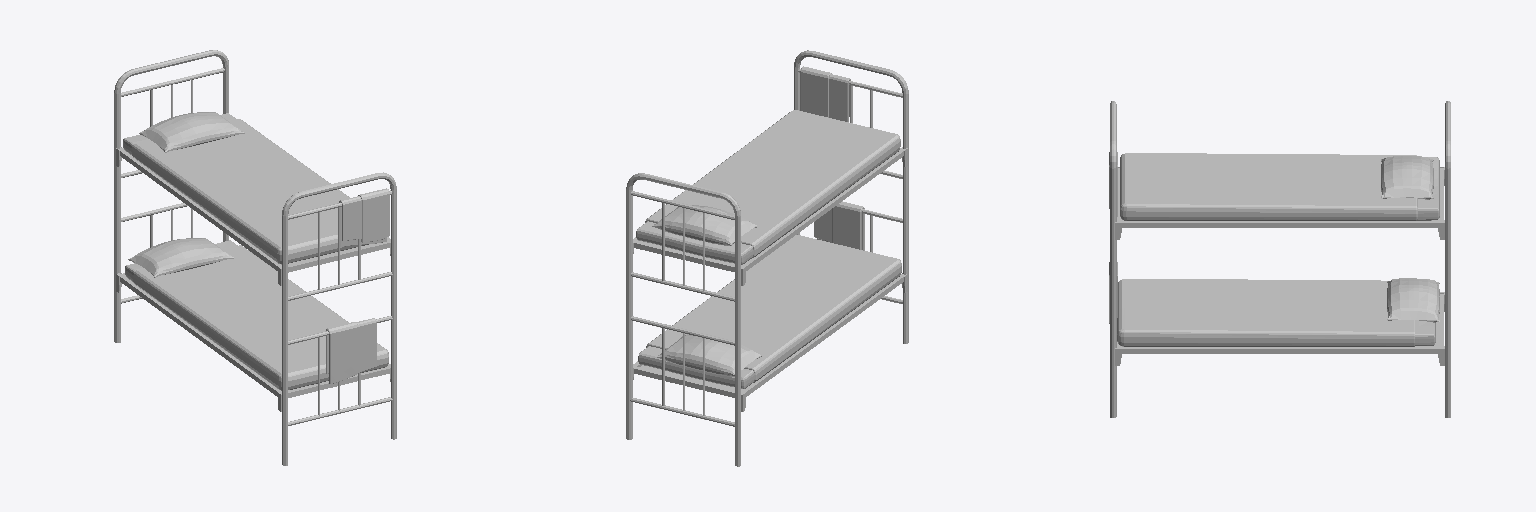
File: Bunk_Bed.obj
The picture shows the model from 3 angles: view 1: azimuth 30°, elevation 25°; view 2: azimuth 150°, elevation 25°; view 3: azimuth 270°, elevation 25°; orthographic projection.
Parts seen in each view (by area): view 1: Planket002, Planket001, Railing002, Railing001, Towel001, Towel002, Pillow002, Pillow001, Bedframes002, Bedframe001; view 2: Planket001, Planket002, Railing001, Railing002, Bedframe001, Bedframes002, Pillow001, Towel002, Pillow002, Towel001, Mattress002, Mattress001; view 3: Planket001, Planket002, Bedframes002, Bedframe001, Pillow001, Pillow002, Railing002, Railing001, Mattress002.
Boxes of the visible parts, <box> form: Planket002: <box>132,119,368,264</box>; Planket001: <box>133,245,388,390</box>; Railing002: <box>282,172,396,465</box>; Railing001: <box>114,50,228,342</box>; Towel001: <box>326,318,376,383</box>; Towel002: <box>339,188,389,246</box>; Pillow002: <box>139,112,244,152</box>; Pillow001: <box>128,238,233,277</box>; Bedframes002: <box>116,147,390,285</box>; Bedframe001: <box>116,273,390,411</box>; Planket001: <box>646,235,901,382</box>; Planket002: <box>645,110,900,257</box>; Railing001: <box>626,173,740,466</box>; Railing002: <box>794,50,908,343</box>; Bedframe001: <box>633,273,907,411</box>; Bedframes002: <box>633,147,907,285</box>; Pillow001: <box>657,334,761,376</box>; Towel002: <box>800,66,850,121</box>; Pillow002: <box>652,205,757,245</box>; Towel001: <box>814,201,864,250</box>; Mattress002: <box>636,221,753,264</box>; Mattress001: <box>638,346,754,388</box>; Planket001: <box>1117,279,1414,346</box>; Planket002: <box>1120,153,1417,220</box>; Bedframes002: <box>1115,167,1444,239</box>; Bedframe001: <box>1115,292,1444,365</box>; Pillow001: <box>1387,278,1439,322</box>; Pillow002: <box>1381,156,1433,199</box>; Railing002: <box>1110,101,1116,417</box>; Railing001: <box>1445,101,1450,417</box>; Mattress002: <box>1417,157,1439,220</box>.
Size of the model in its own units: 71.15 by 159 by 184.